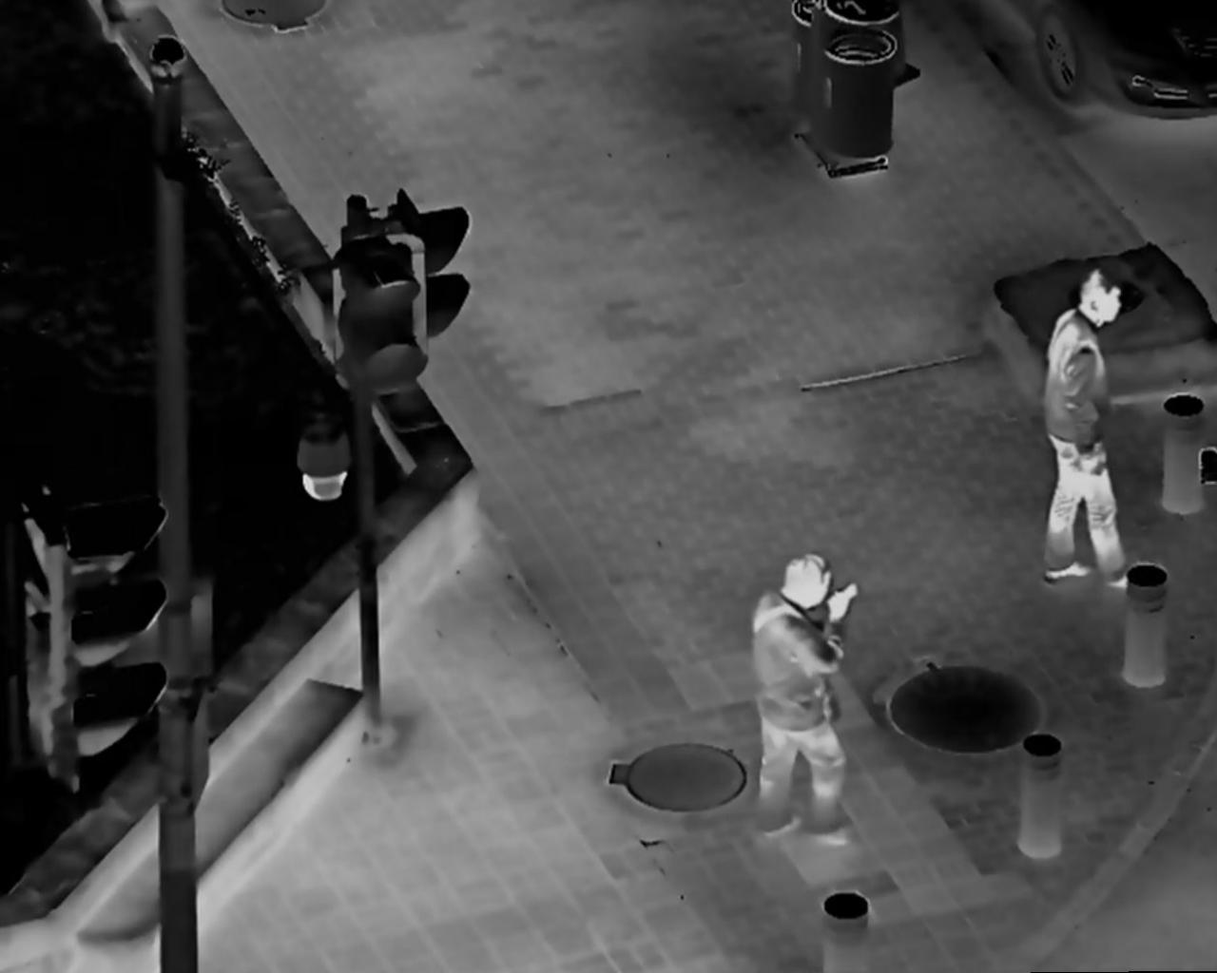person: (1031, 260, 1152, 595), (733, 549, 866, 850)
